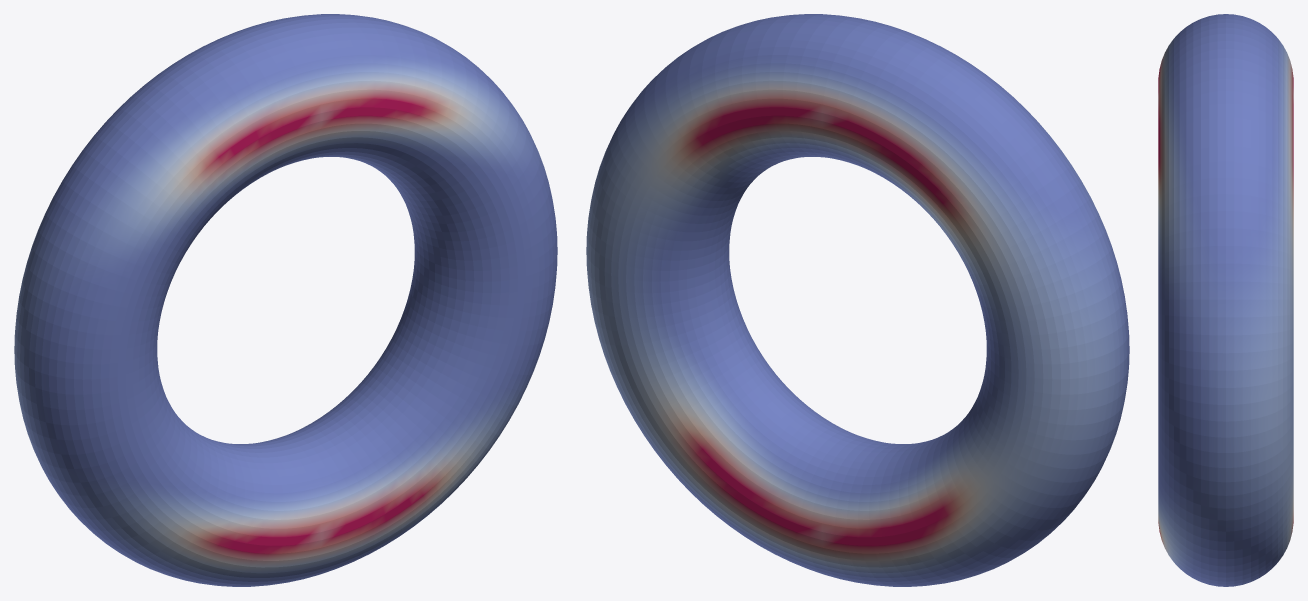
The picture shows the model from 3 angles, left to right: view 1: azimuth 30°, elevation 25°; view 2: azimuth 150°, elevation 25°; view 3: azimuth 270°, elevation 25°; orthographic projection. The views are drawn at different scales.
Parts seen in each view (by area): view 1: world; view 2: world; view 3: world.
Part boxes in pixels (bbox=[...]): world: bbox=[14, 14, 557, 586]; world: bbox=[586, 14, 1129, 586]; world: bbox=[1158, 14, 1293, 586].
Bounding box in the file's own units: 16 × 16 × 3.77.
